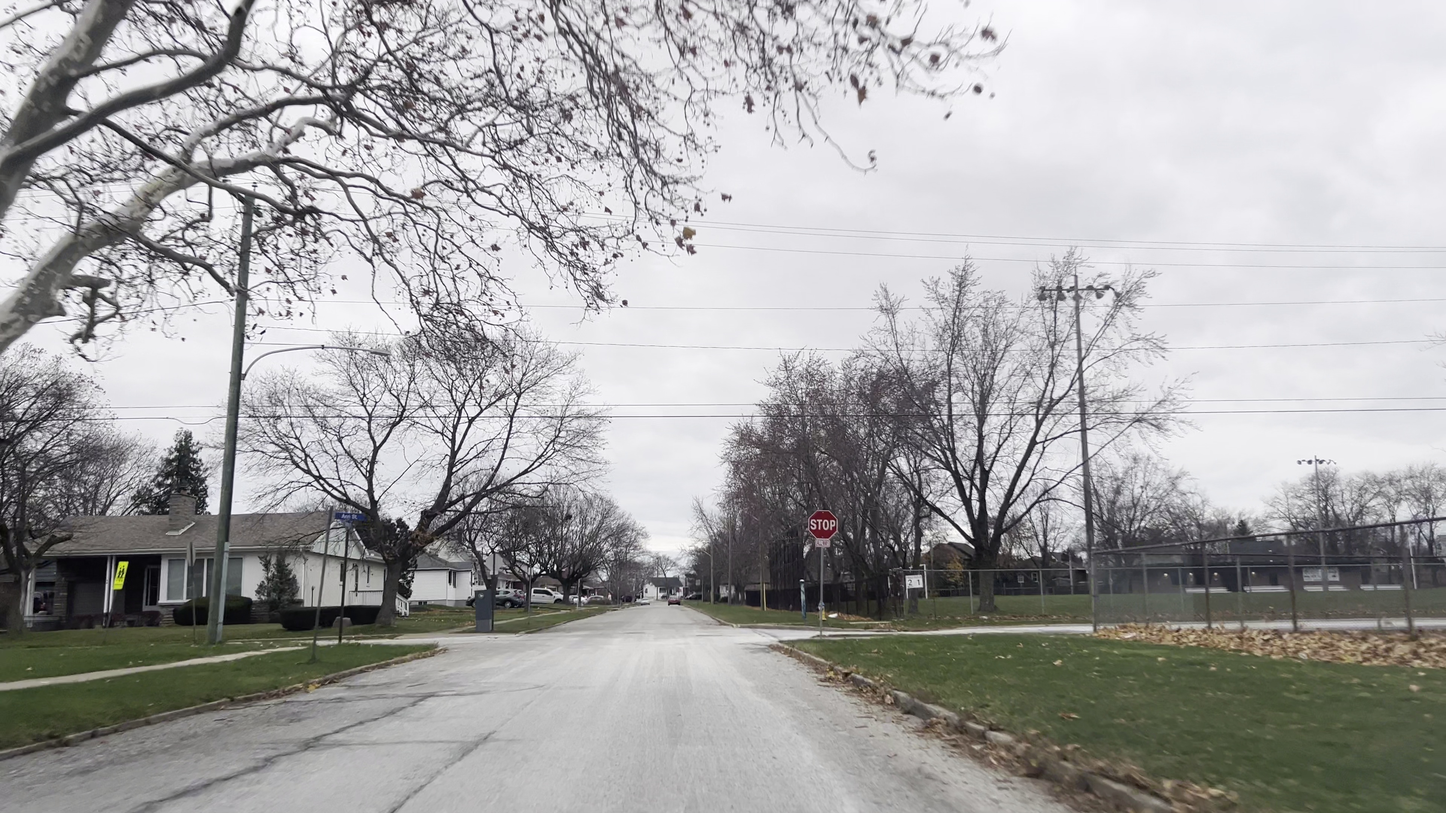cracks: (346, 685, 444, 730), (272, 726, 365, 758), (190, 755, 275, 790), (133, 775, 188, 813)
